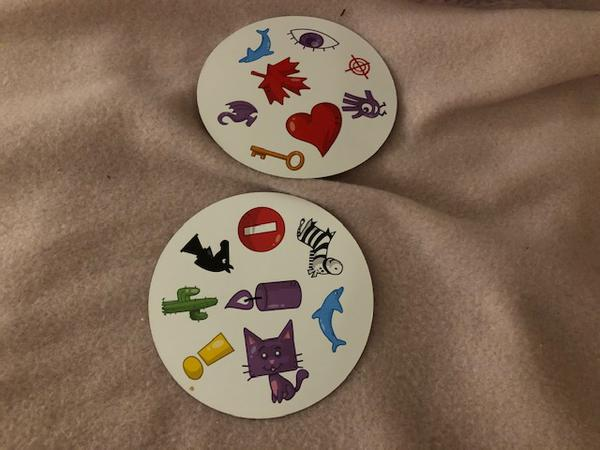bougie: (224, 277, 303, 318)
cactus: (158, 282, 219, 323)
chat: (239, 320, 310, 404)
cheval: (179, 232, 235, 277)
cible: (340, 50, 375, 83)
cle: (245, 142, 307, 170)
coeur: (286, 94, 358, 157)
dauphin: (311, 283, 354, 355), (235, 25, 279, 64)
dooble: (340, 87, 389, 120)
dragon: (217, 97, 261, 130)
feuille: (246, 55, 310, 108)
oeuil: (282, 26, 341, 55)
point_exclamation: (179, 328, 235, 384)
sens_interdit: (234, 207, 287, 256)
zebre: (294, 213, 347, 284)
